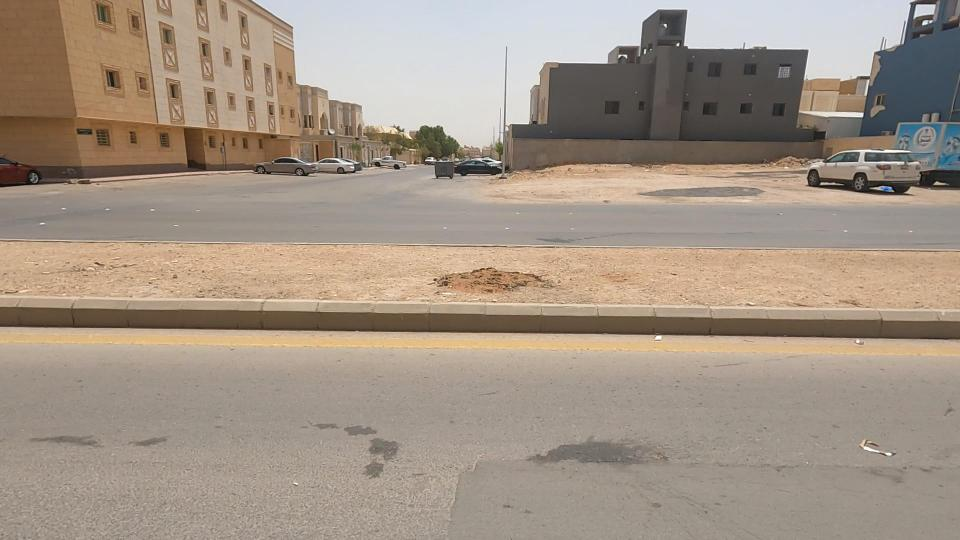CLUTTER_SIDEWALK: (107, 213, 760, 337)
